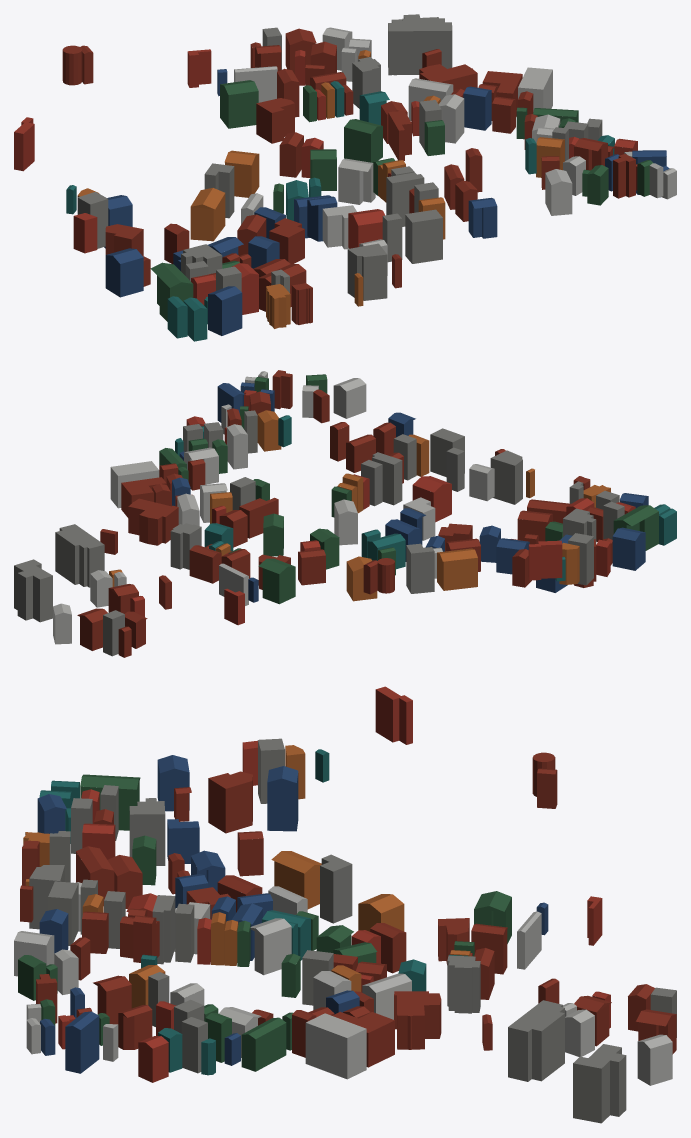
The model's file is near-17-109438-59478.7434bceb.glb.
3 renders of one model, top to bottom at view 1: azimuth 30°, elevation 25°; view 2: azimuth 150°, elevation 25°; view 3: azimuth 270°, elevation 25°, orthographic. The views are drawn at different scales.
Bounding box in the file's own units: 305 × 72.04 × 293.
